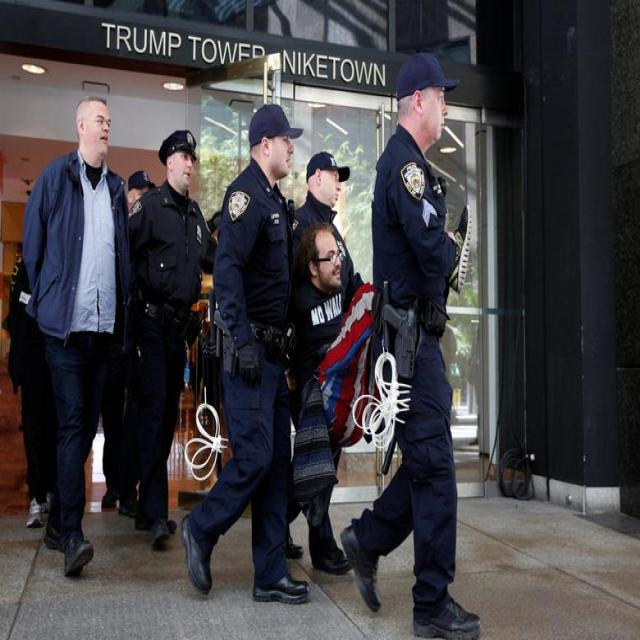police: (344, 37, 478, 640), (185, 105, 304, 612), (126, 124, 207, 580)
